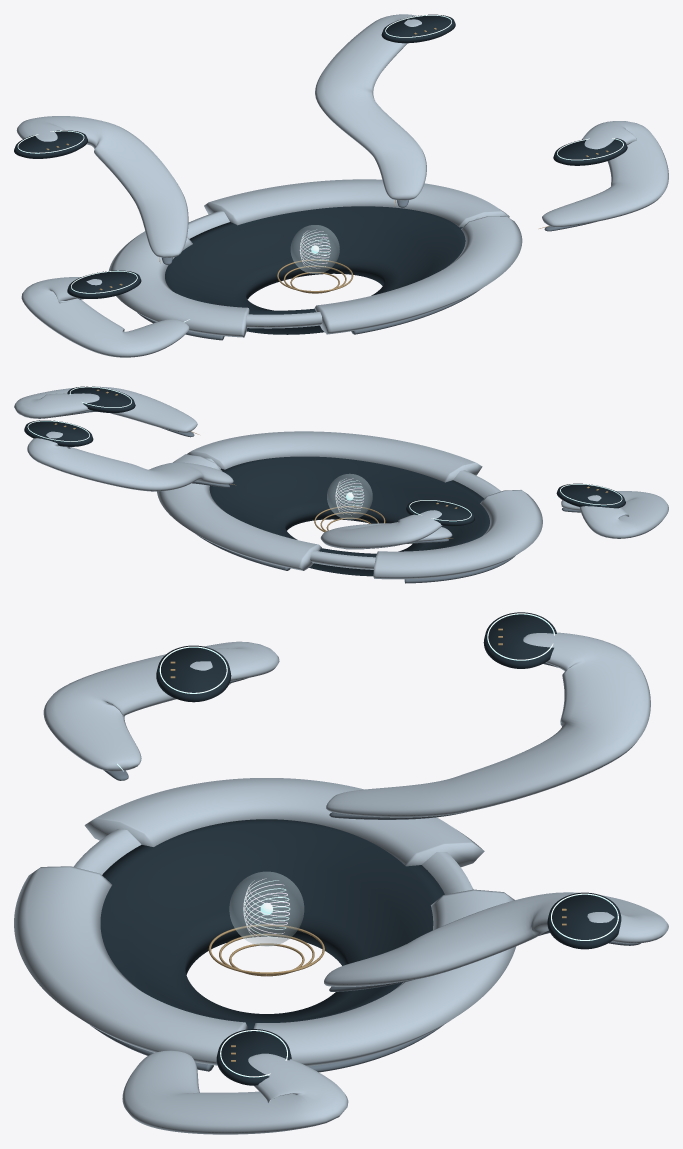
The model's file is tem-cinematic-starport.glb.
3 views of the same model, one above another, from view 1: azimuth 30°, elevation 25°; view 2: azimuth 150°, elevation 25°; view 3: azimuth 270°, elevation 25° (orthographic). The views are drawn at different scales.
Parts seen in each view (by area): view 1: STARPORT_PEARL_CERAMIC, STARPORT_DARK_PRESSURE, STARPORT_GLASS_DISPLAY, STARPORT_EMISSION_CYAN, STARPORT_TITANIUM_COLD, STARPORT_TITANIUM_CHAMPAGNE; view 2: STARPORT_PEARL_CERAMIC, STARPORT_DARK_PRESSURE, STARPORT_GLASS_DISPLAY, STARPORT_TITANIUM_COLD, STARPORT_EMISSION_CYAN, STARPORT_TITANIUM_CHAMPAGNE; view 3: STARPORT_PEARL_CERAMIC, STARPORT_DARK_PRESSURE, STARPORT_GLASS_DISPLAY, STARPORT_TITANIUM_COLD, STARPORT_EMISSION_CYAN, STARPORT_TITANIUM_CHAMPAGNE.
Part boxes in pixels (x1,y1,x2,y2): STARPORT_PEARL_CERAMIC: (16, 14, 668, 357); STARPORT_DARK_PRESSURE: (14, 14, 627, 334); STARPORT_GLASS_DISPLAY: (290, 225, 339, 273); STARPORT_EMISSION_CYAN: (17, 15, 623, 322); STARPORT_TITANIUM_COLD: (78, 144, 595, 340); STARPORT_TITANIUM_CHAMPAGNE: (46, 28, 608, 293); STARPORT_PEARL_CERAMIC: (14, 386, 668, 579); STARPORT_DARK_PRESSURE: (24, 386, 625, 576); STARPORT_GLASS_DISPLAY: (327, 473, 372, 519); STARPORT_TITANIUM_COLD: (38, 410, 620, 583); STARPORT_EMISSION_CYAN: (27, 386, 622, 521); STARPORT_TITANIUM_CHAMPAGNE: (54, 389, 607, 538); STARPORT_PEARL_CERAMIC: (14, 632, 668, 1134); STARPORT_DARK_PRESSURE: (100, 612, 621, 1085); STARPORT_GLASS_DISPLAY: (229, 871, 304, 946); STARPORT_TITANIUM_COLD: (90, 662, 640, 1072); STARPORT_EMISSION_CYAN: (117, 613, 618, 1077); STARPORT_TITANIUM_CHAMPAGNE: (170, 628, 566, 1061).
Size of the model in its own units: 35.77 by 7.72 by 20.6.
